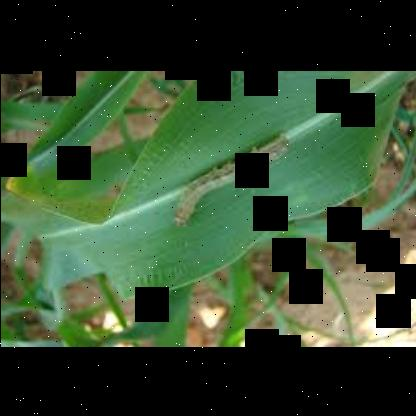oruga: (176, 131, 298, 221)
